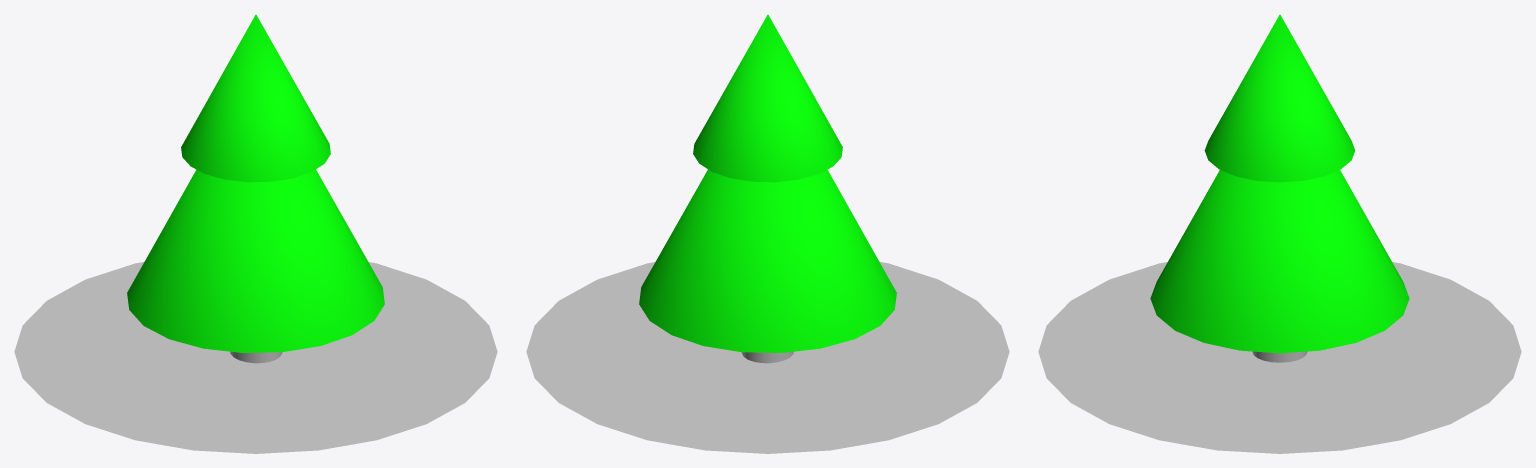
The model's file is Christmas Tree.obj.
3 views of the same model, side by side, from view 1: azimuth 30°, elevation 25°; view 2: azimuth 150°, elevation 25°; view 3: azimuth 270°, elevation 25° (orthographic).
Parts seen in each view (by area): view 1: pDisc1, pCone1, pCone2; view 2: pDisc1, pCone1, pCone2; view 3: pDisc1, pCone1, pCone2.
Part boxes in pixels (x1,y1,x2,y2): pDisc1: [14, 262, 497, 453]; pCone1: [127, 169, 384, 352]; pCone2: [181, 14, 330, 182]; pDisc1: [526, 262, 1009, 453]; pCone1: [639, 169, 896, 352]; pCone2: [693, 14, 842, 182]; pDisc1: [1038, 262, 1521, 453]; pCone1: [1150, 170, 1409, 353]; pCone2: [1204, 14, 1355, 182].
Size of the model in its own units: 2 by 1.54 by 2.
